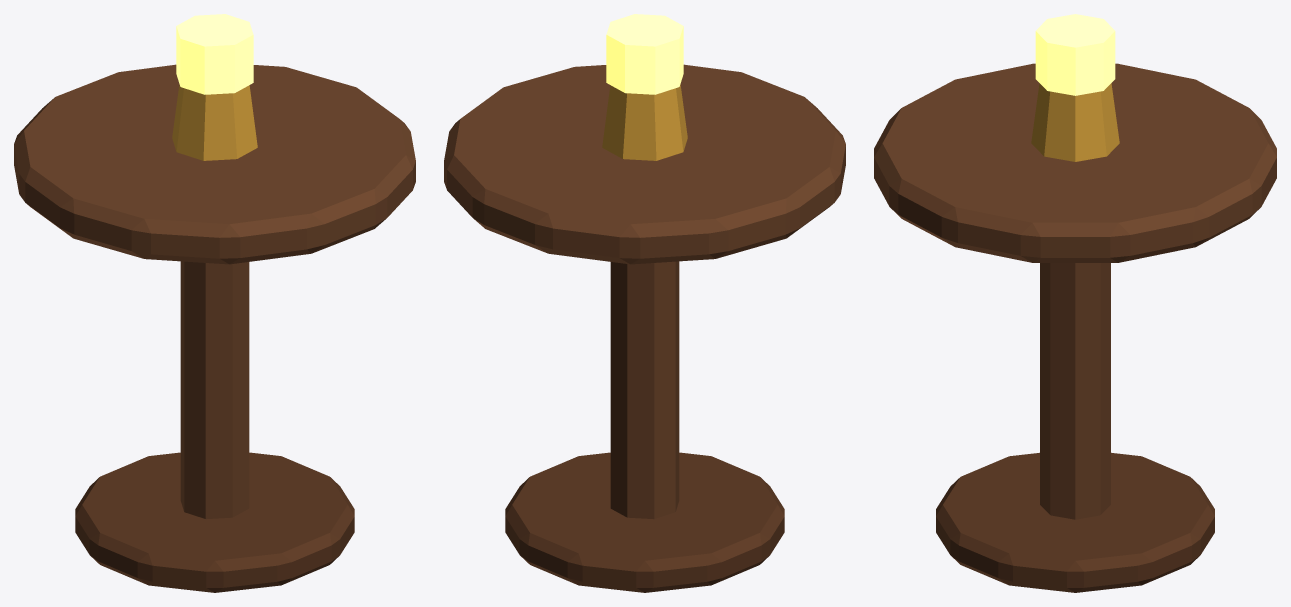
File: side_table.glb
The picture shows the model from 3 angles, left to right: view 1: azimuth 30°, elevation 25°; view 2: azimuth 150°, elevation 25°; view 3: azimuth 270°, elevation 25°; orthographic projection.
Parts seen in each view (by area): view 1: side_table; view 2: side_table; view 3: side_table.
Boxes of the visible parts, <box> form: side_table: <box>14,14,415,592</box>; side_table: <box>444,14,845,592</box>; side_table: <box>874,14,1276,592</box>.
Size of the model in its own units: 0.4485 by 0.63 by 0.4547.
